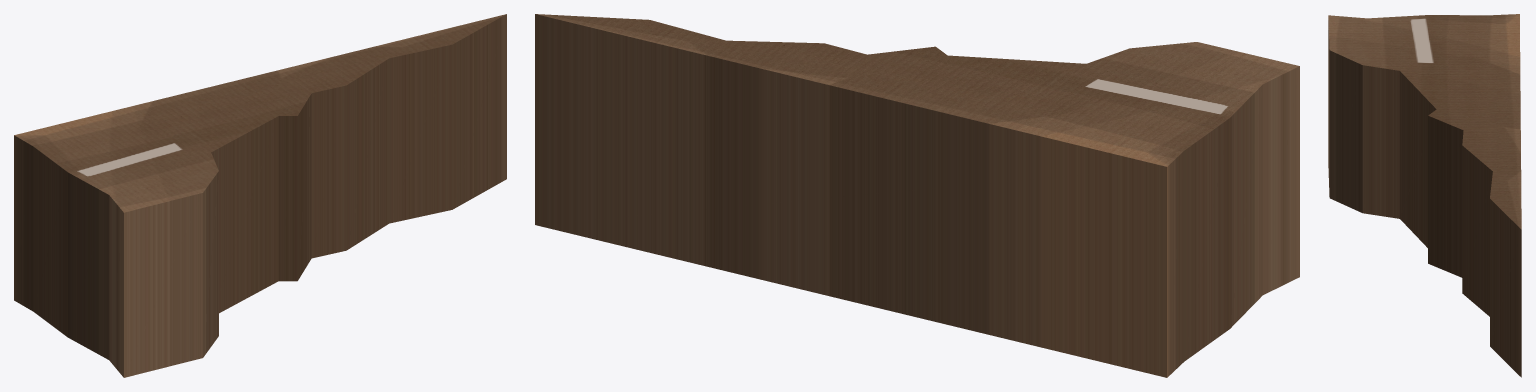
The model's file is road_5.FBX.
3 views of the same model, side by side, from view 1: azimuth 30°, elevation 25°; view 2: azimuth 150°, elevation 25°; view 3: azimuth 270°, elevation 25° (orthographic). The views are drawn at different scales.
Visible parts, largest first — view 1: road_5; view 2: road_5; view 3: road_5.
Part boxes in pixels (x1,y1,x2,y2): road_5: (14, 14, 506, 377); road_5: (535, 14, 1299, 377); road_5: (1328, 14, 1521, 377).
Size of the model in its own units: 1251 by 400 by 473.
Materials: 1 (1 with a texture image).
